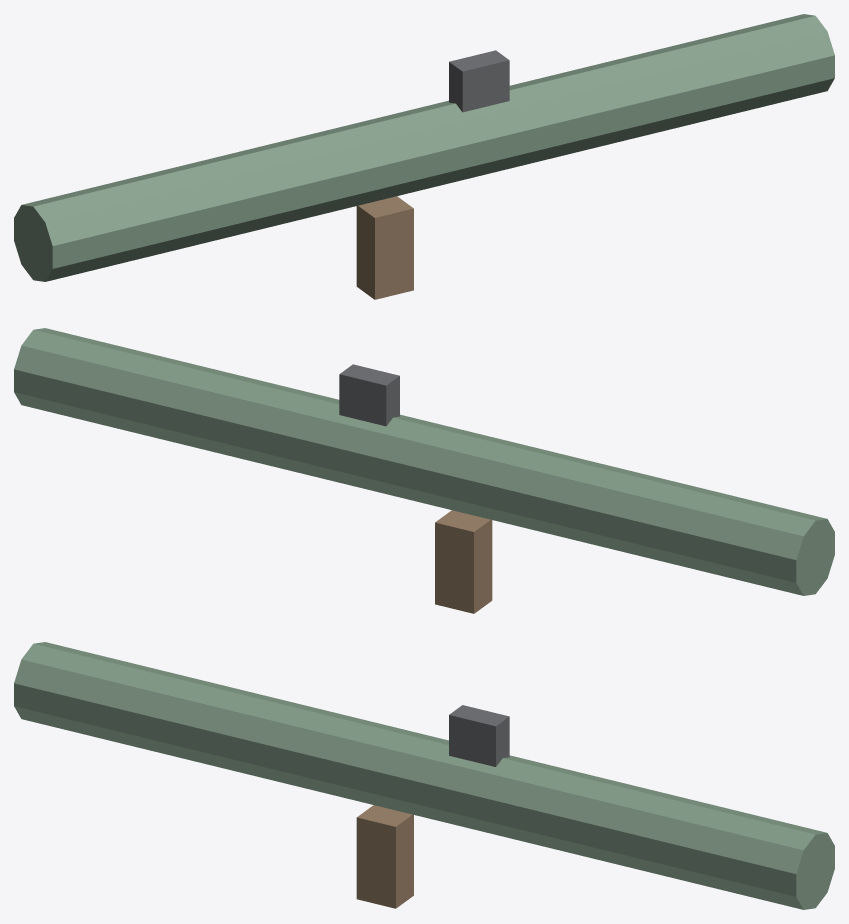
Rendered from held_weapon_rocket_launcher.glb.
The picture shows the model from 3 angles, top to bottom: view 1: azimuth 30°, elevation 25°; view 2: azimuth 150°, elevation 25°; view 3: azimuth 330°, elevation 25°; orthographic projection.
Parts seen in each view (by area): view 1: held_weapon_rocket_launcher; view 2: held_weapon_rocket_launcher; view 3: held_weapon_rocket_launcher.
Part boxes in pixels (left/top/right/bottom): held_weapon_rocket_launcher: left=14, top=14, right=834, bottom=299; held_weapon_rocket_launcher: left=14, top=328, right=834, bottom=613; held_weapon_rocket_launcher: left=14, top=642, right=834, bottom=909.
Bounding box in the file's own units: 1 × 0.25 × 0.0856.
